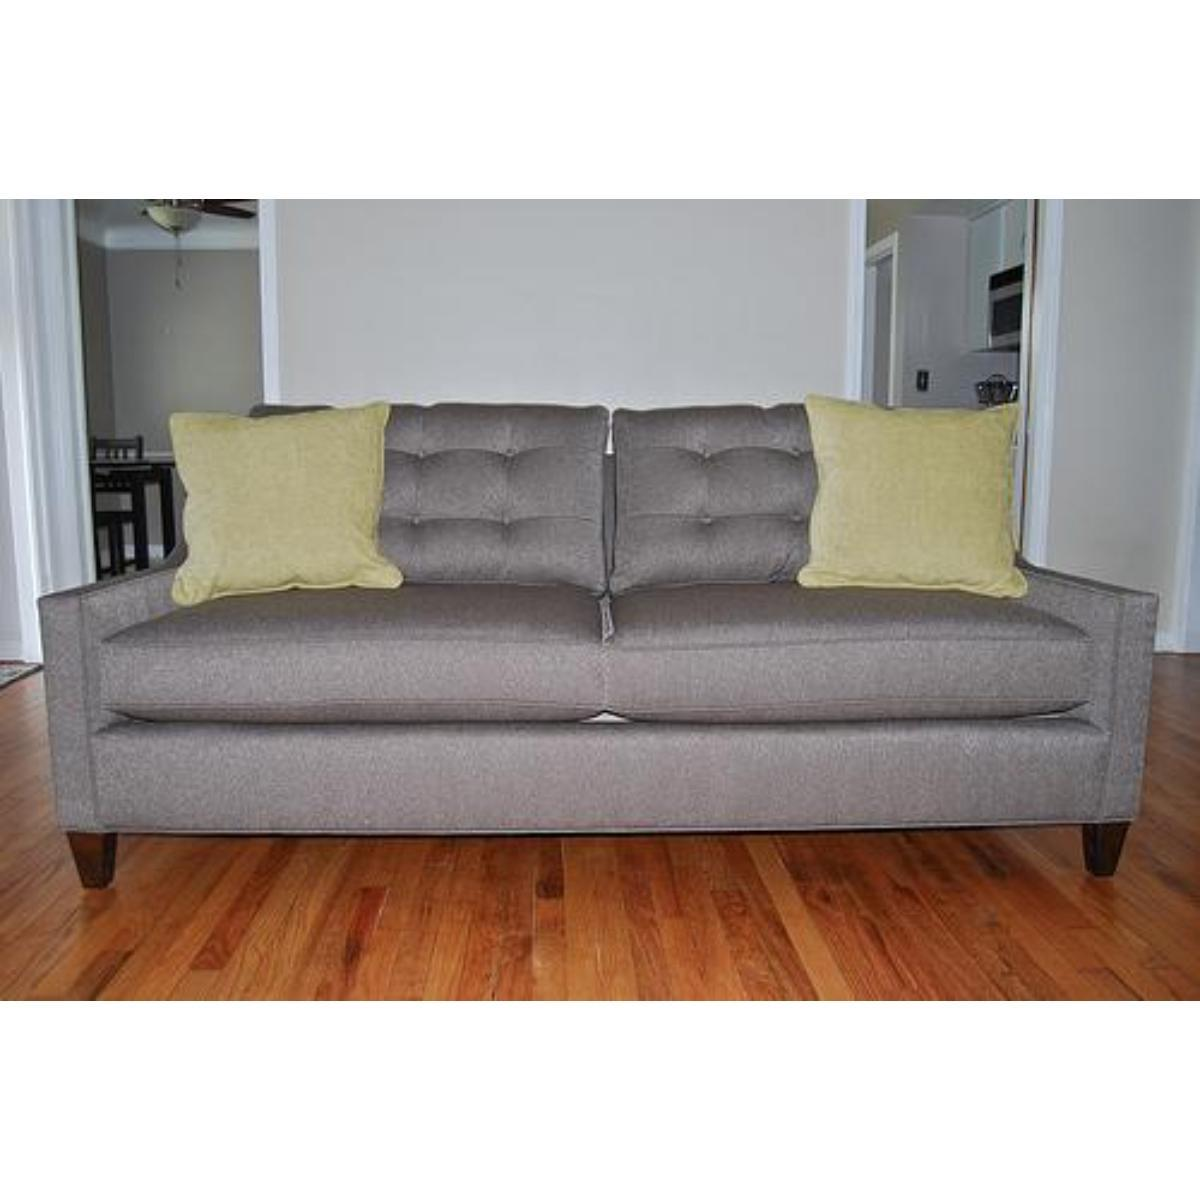Sofa: (34, 396, 1158, 874)
